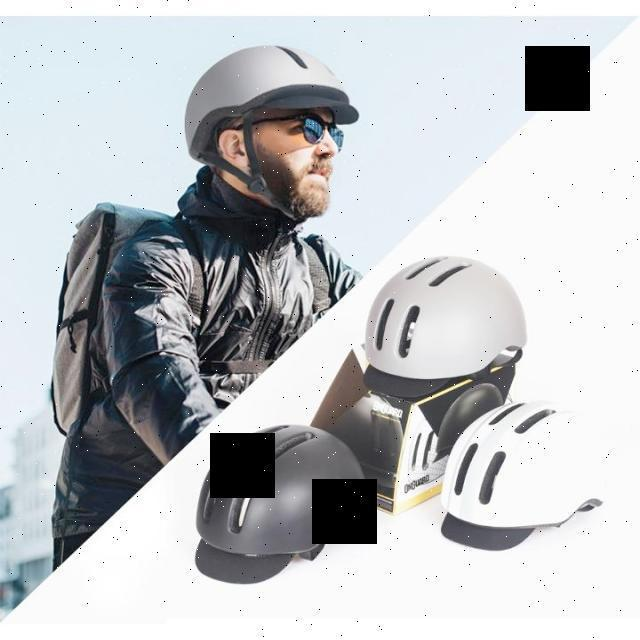helmet: (182, 42, 362, 220)
